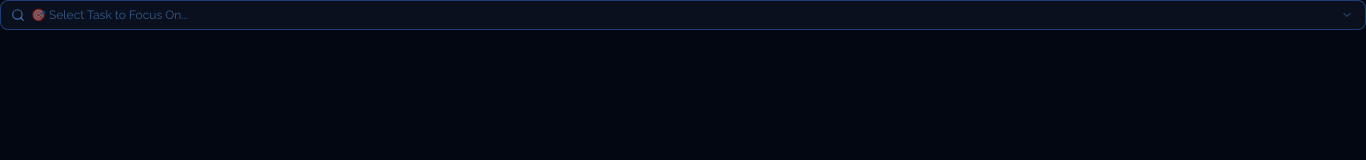
Test: TimerTaskSearch › shows fallback button and triggers onSetCustomTopic when query does not match any tasks
Later steps or results of the test are not shown.
Type "Quantum Cryptography" into the dropdown.
click(682, 15); type("Quantum Cryptography")  # box x1=31 y1=7 x2=1333 y2=23
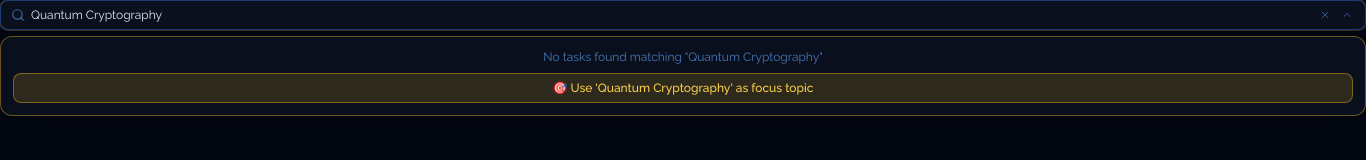
Result: the text "No tasks found matching \"Quantum Cryptography\"" is shown at x1=543 y1=50 x2=823 y2=64
Result: the button "🎯 Use 'Quantum Cryptography' as focus topic" is shown at x1=13 y1=73 x2=1353 y2=103
